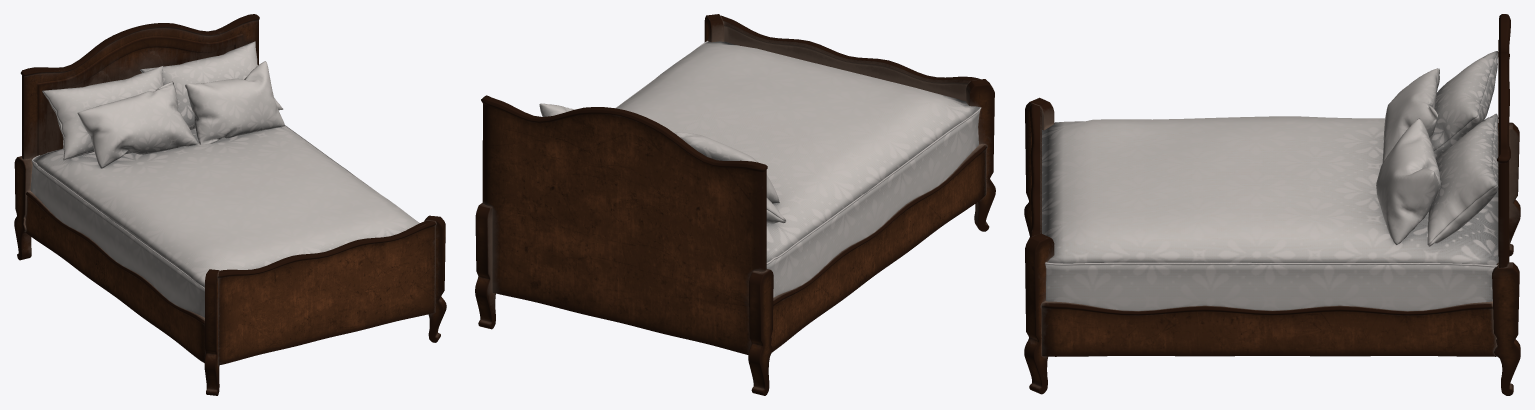
3 renders of one model, left to right at view 1: azimuth 30°, elevation 25°; view 2: azimuth 150°, elevation 25°; view 3: azimuth 270°, elevation 25°, orthographic. The views are drawn at different scales.
Parts seen in each view (by area): view 1: victorian_bed_wood, victorian_bed_mattres, pollows; view 2: victorian_bed_wood, victorian_bed_mattres, pollows; view 3: victorian_bed_mattres, victorian_bed_wood, pollows.
Boxes of the visible parts, x1,y1,x2,y2 form: victorian_bed_wood: [14, 14, 446, 395]; victorian_bed_mattres: [30, 125, 419, 317]; pollows: [42, 41, 284, 168]; victorian_bed_wood: [475, 14, 995, 395]; victorian_bed_mattres: [615, 40, 981, 297]; pollows: [539, 103, 785, 223]; victorian_bed_mattres: [1042, 116, 1498, 311]; victorian_bed_wood: [1024, 14, 1520, 395]; pollows: [1376, 51, 1498, 246].
Bounding box in the file's own units: 2.13 × 1.73 × 3.01.
Materials: 3 (3 with a texture image).
